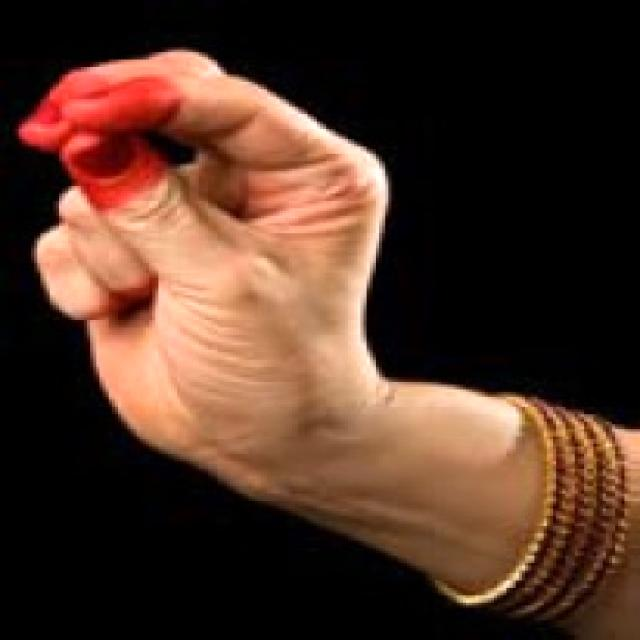Katakamukha: (7, 31, 465, 515)
